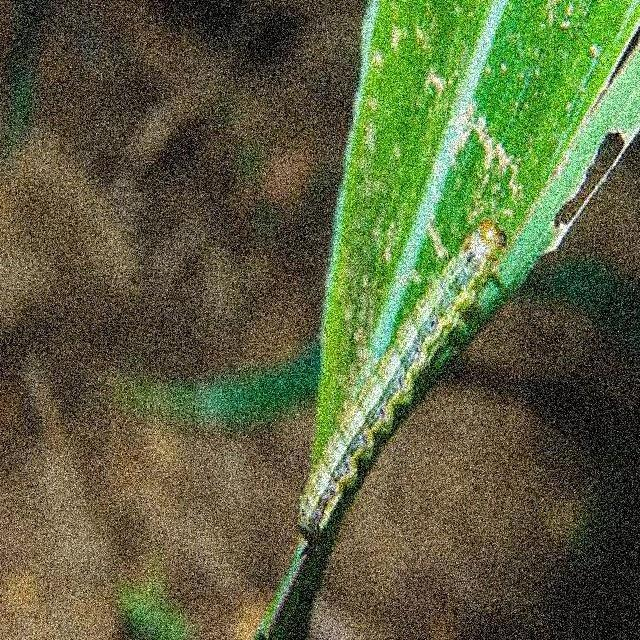gusano_cogollero: (295, 222, 507, 535)
